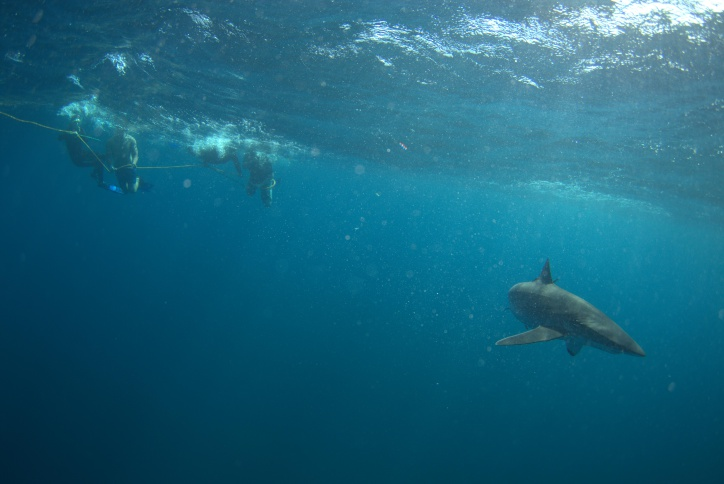Sedoso: (492, 252, 650, 369)
